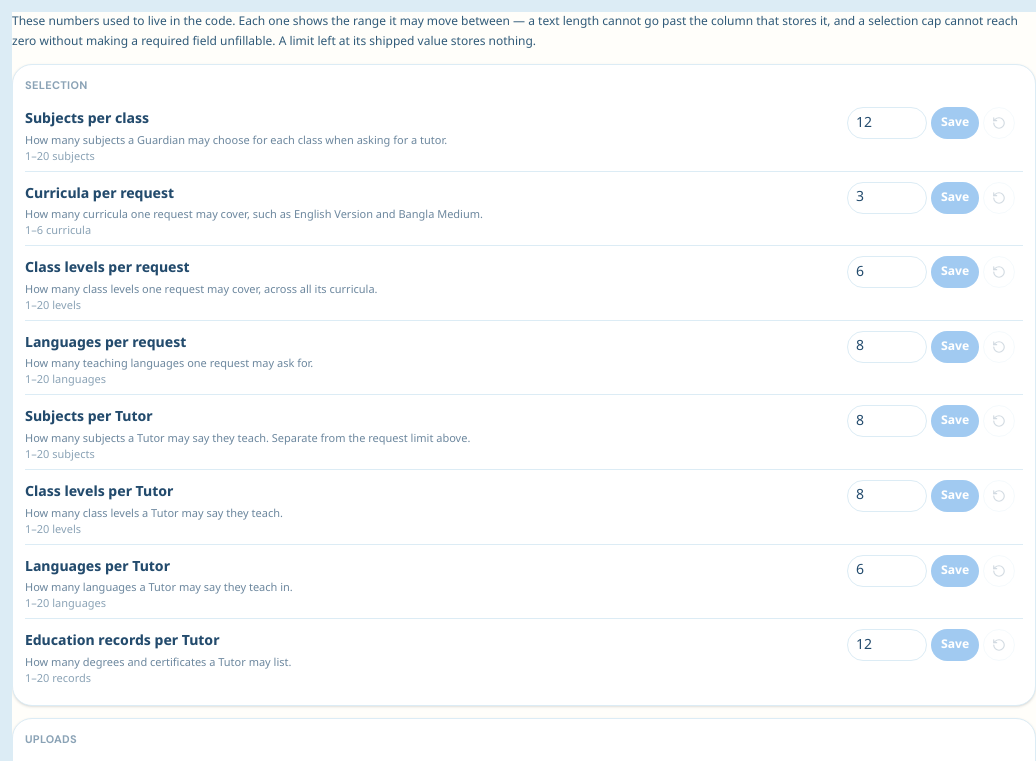
site limit editor › surfaces a rejected save instead of pretending it worked
The image size is (1036, 761).
Replace the text in the number field labelled "Subjects per class" with "6" at (887, 123), box [847,107,927,139]
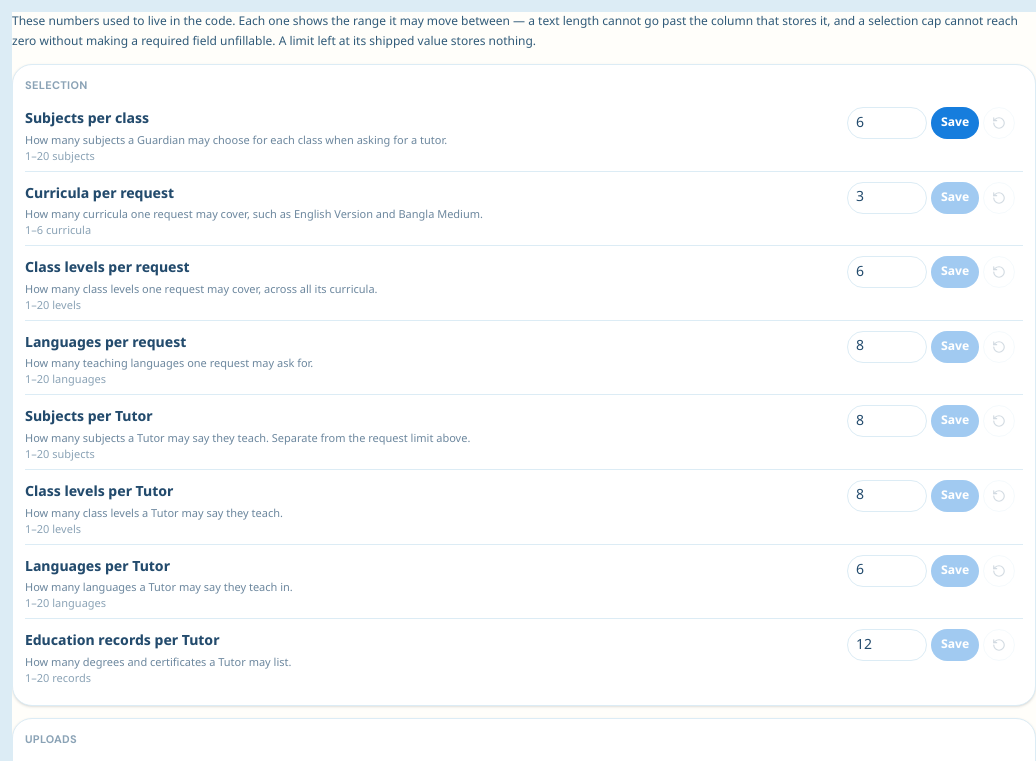
Click the button "Save" in the row of "Subjects per class" at (955, 123), box [931,107,979,139]
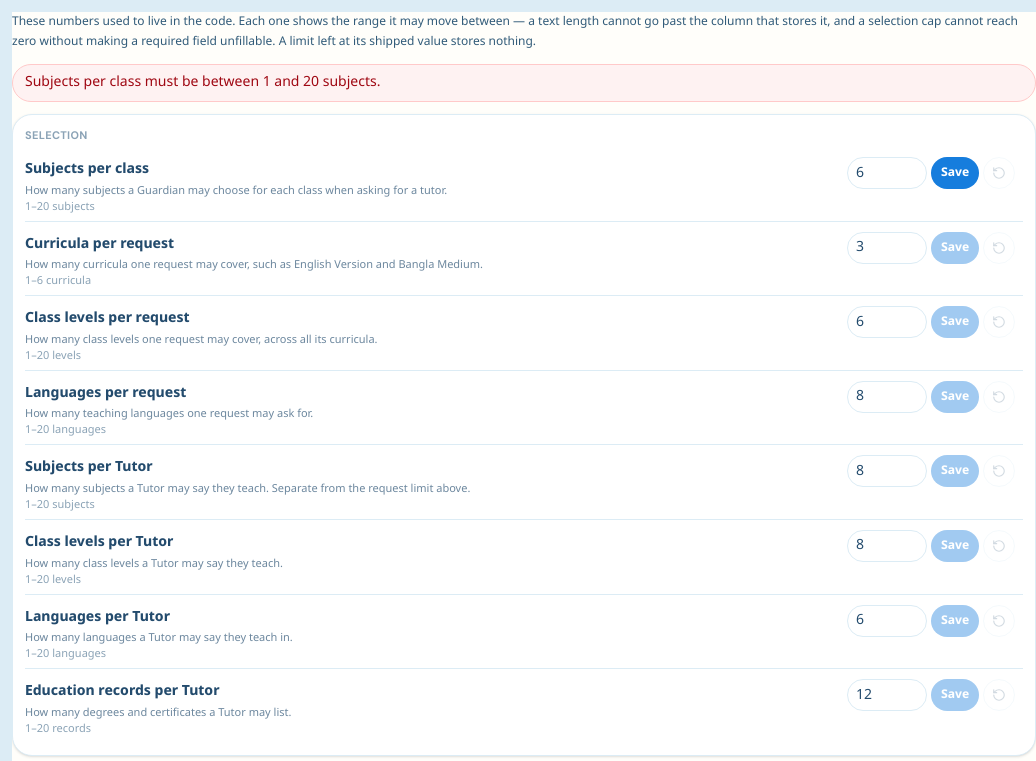
Expected: the message shows "must be between 1 and 20", [25,73,380,92]
